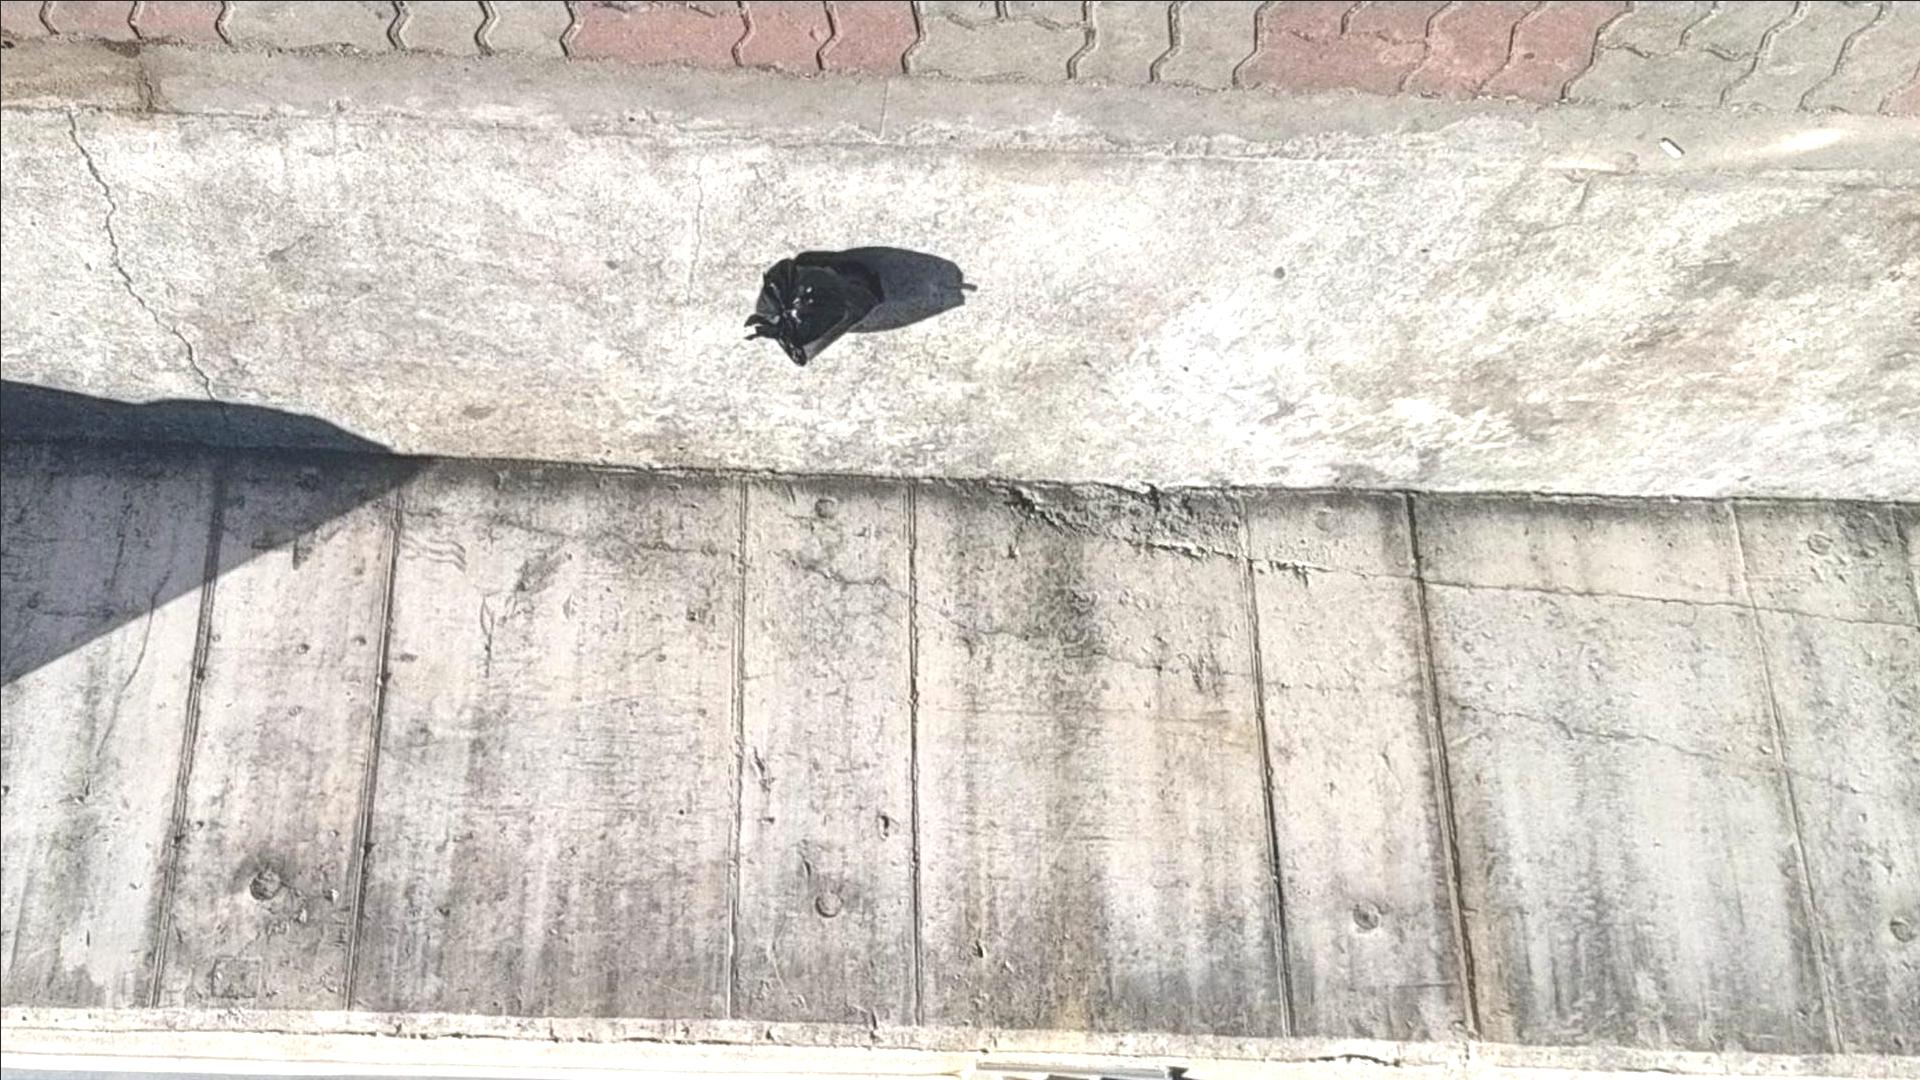black_bag: (741, 249, 893, 377)
